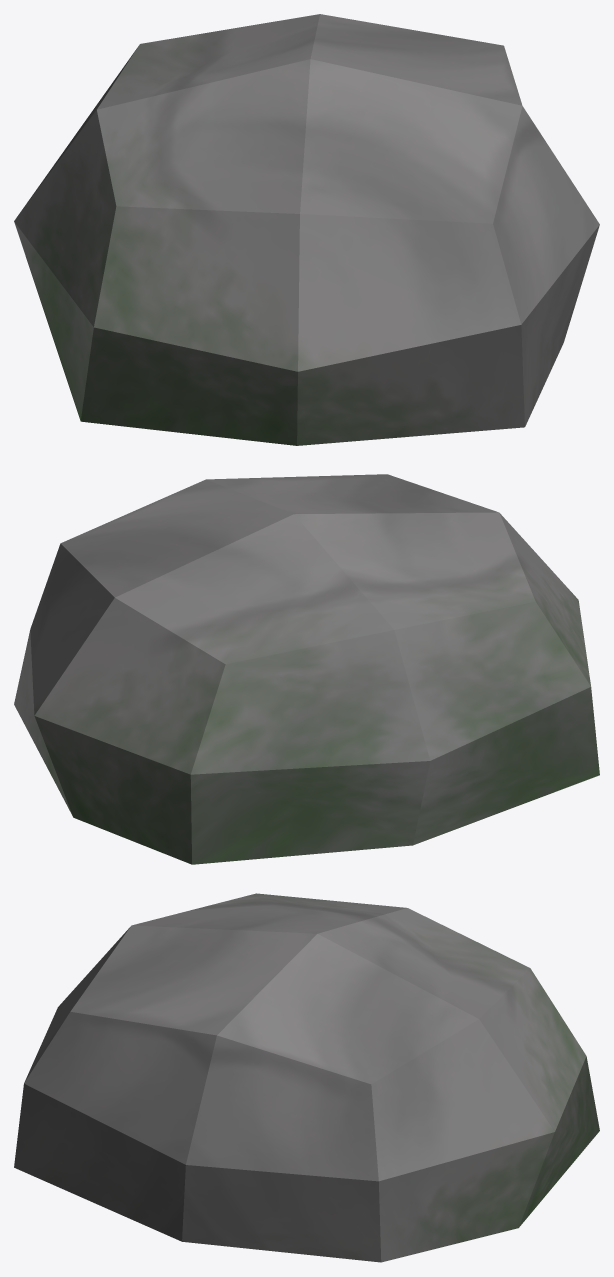
The model's file is stone-005-50.glb.
3 views of the same model, one above another, from view 1: azimuth 30°, elevation 25°; view 2: azimuth 150°, elevation 25°; view 3: azimuth 270°, elevation 25° (orthographic). The views are drawn at different scales.
Parts seen in each view (by area): view 1: stone.005_50; view 2: stone.005_50; view 3: stone.005_50.
Part boxes in pixels (box(x1,y1,x2,y2)): stone.005_50: box(14, 14, 599, 445); stone.005_50: box(14, 474, 599, 864); stone.005_50: box(14, 893, 599, 1262).
Size of the model in its own units: 7.49 by 4.23 by 7.94.
1 material, 1 textured.
